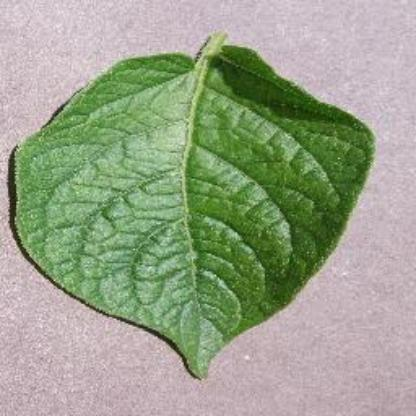Healthy-plant: (8, 27, 382, 384)
